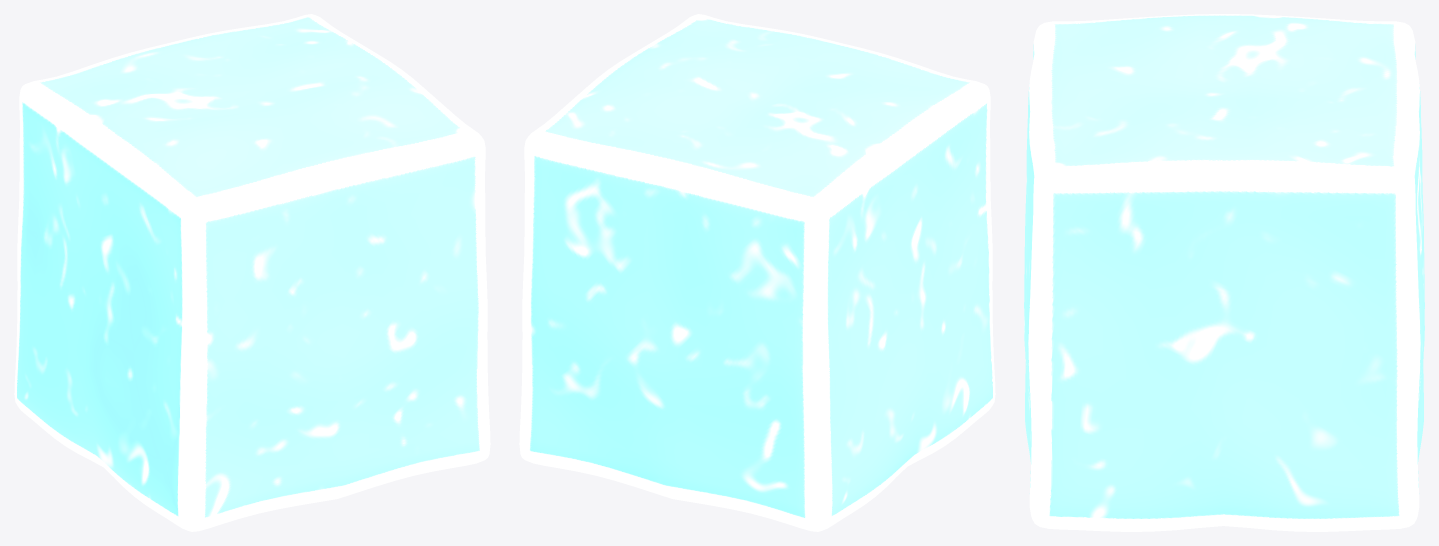
The model's file is IceCube.fbx.
3 renders of one model, left to right at view 1: azimuth 30°, elevation 25°; view 2: azimuth 150°, elevation 25°; view 3: azimuth 270°, elevation 25°, orthographic. The views are drawn at different scales.
Parts seen in each view (by area): view 1: RiggedIce; view 2: RiggedIce; view 3: RiggedIce.
Part boxes in pixels (<box>): RiggedIce: <box>14,14,490,531</box>; RiggedIce: <box>519,14,995,531</box>; RiggedIce: <box>1024,14,1424,531</box>.
Bounding box in the file's own units: 2.22 × 2.28 × 2.2.
